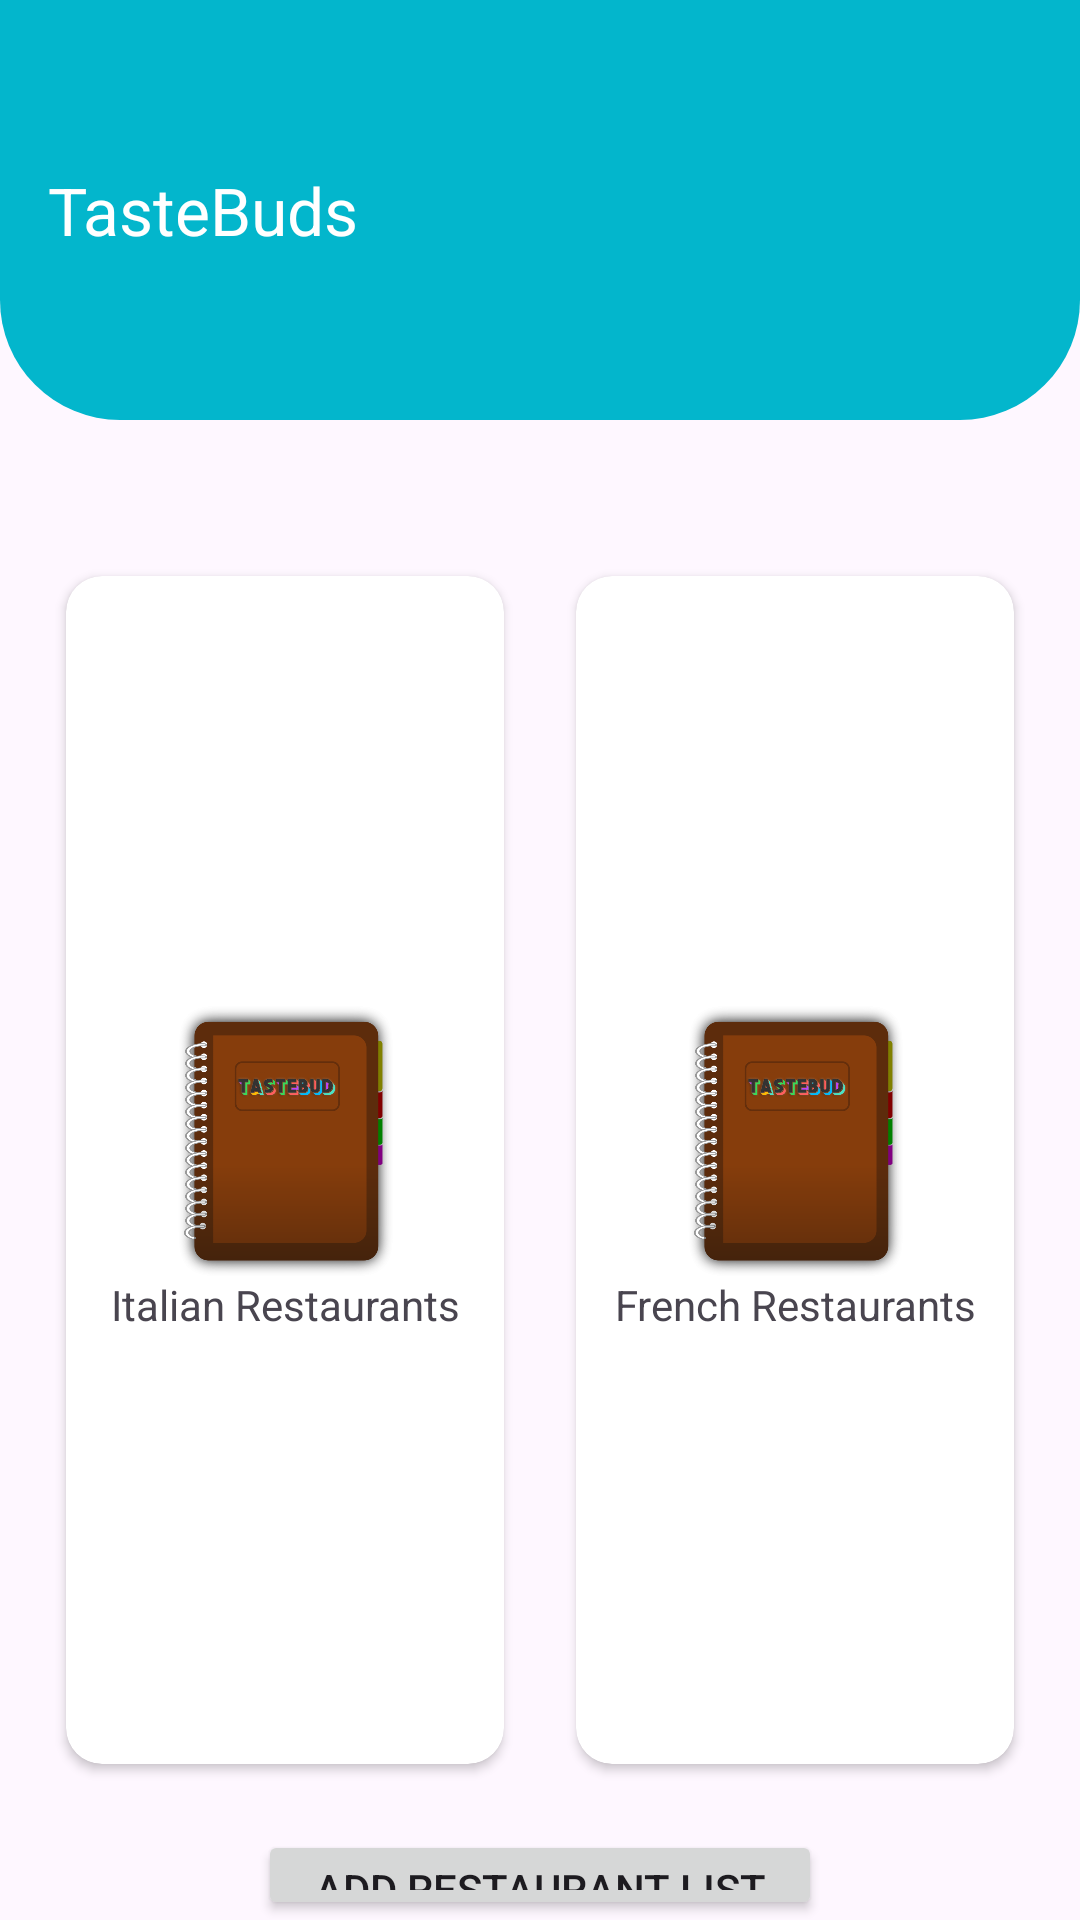

Named icons in this screenshot (1080×1920) and their bounding boxes, [x1, y1, x2, y2]:
diary: [184, 1013, 387, 1270], [694, 1013, 897, 1270]
